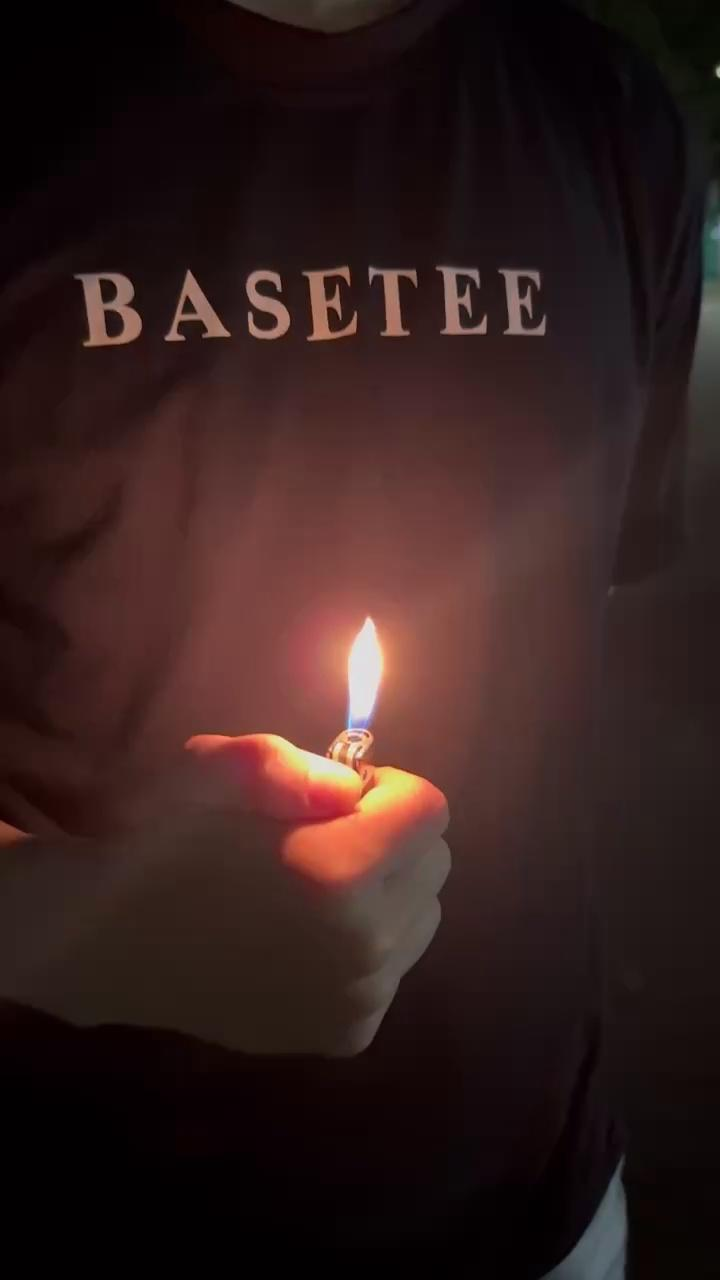Fire: (328, 612, 400, 748)
